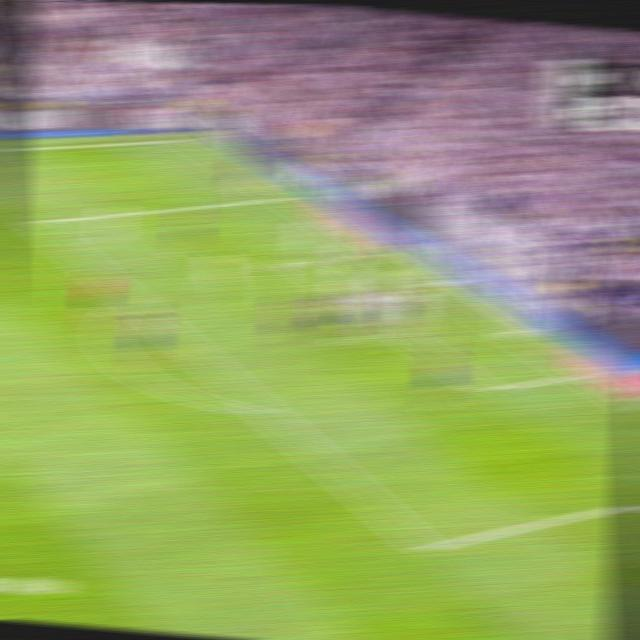bigarea_bottom_inner: (411, 532, 442, 565)
bigarea_top_inner: (24, 211, 48, 233)
bigarea_top_outter: (270, 188, 294, 204)
bottom_arc_area_intersection: (250, 396, 278, 424)
corner: (174, 132, 200, 146)
smallarea_bottom_inner: (474, 378, 500, 401)
smallarea_bottom_outter: (564, 364, 588, 382)
smallarea_top_inner: (286, 253, 310, 272)
top_arc_area_intersection: (117, 287, 143, 309)
